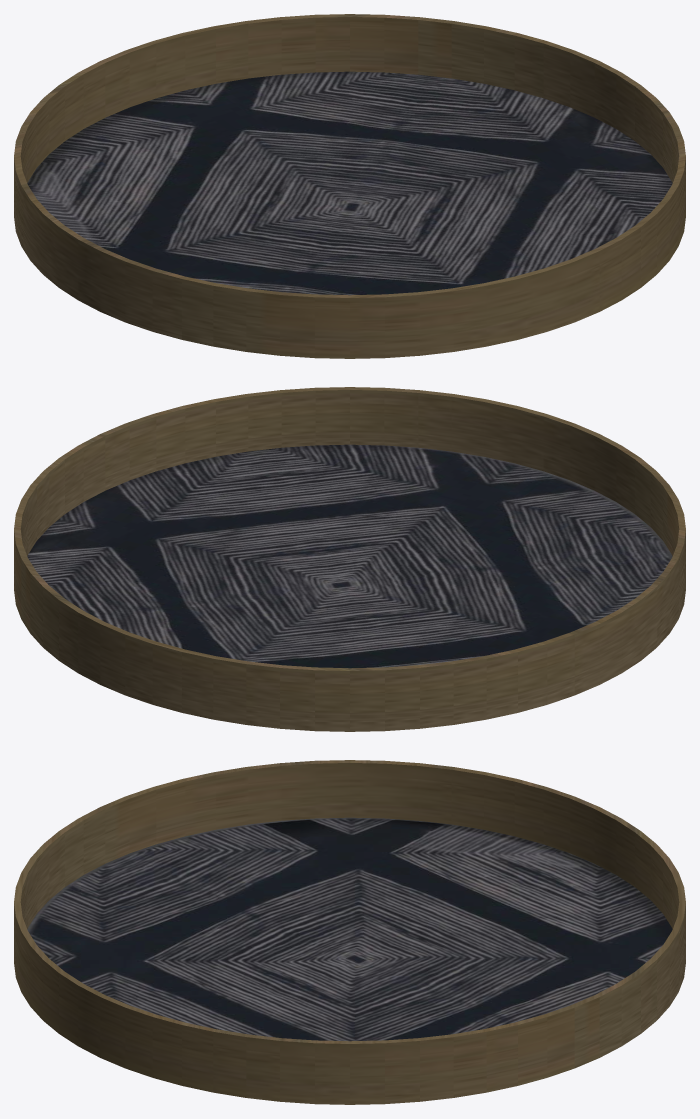
Rendered from Ink_Linear_OrganicGlassValetTray-Round.glb.
The picture shows the model from 3 angles, top to bottom: view 1: azimuth 30°, elevation 25°; view 2: azimuth 150°, elevation 25°; view 3: azimuth 270°, elevation 25°; orthographic projection.
Visible parts, largest first — view 1: model 15; view 2: model 15; view 3: model 15.
Part boxes in pixels (box(x1,y1,x2,y2)): model 15: box(14, 14, 685, 358); model 15: box(14, 387, 685, 731); model 15: box(14, 760, 685, 1104).
Bounding box in the file's own units: 0.3 × 0.03 × 0.3.
2 materials, 2 textured.
